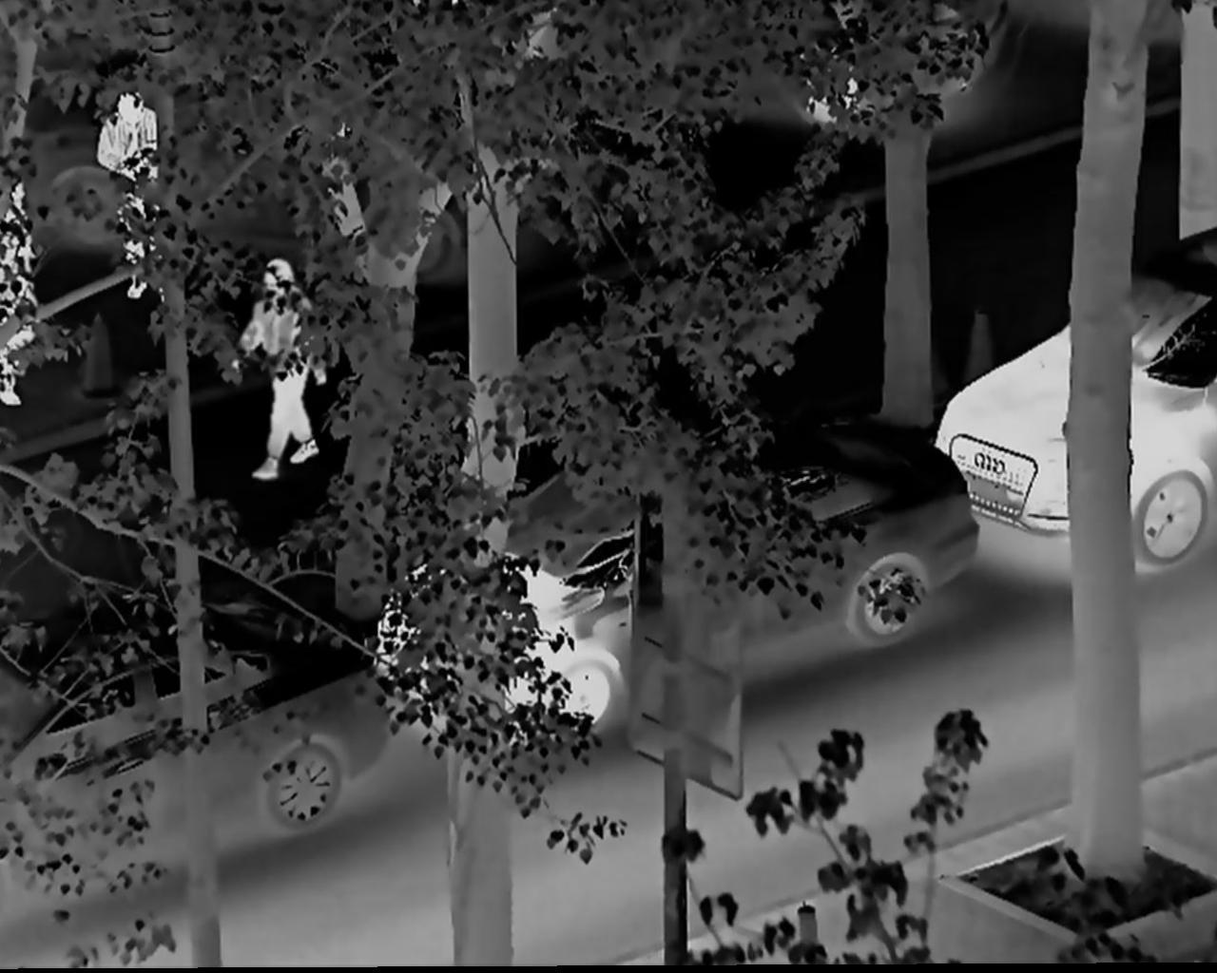person: (243, 259, 334, 488), (90, 82, 164, 294)
